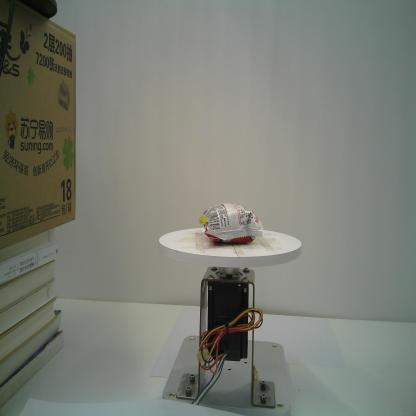Dessert: (199, 202, 263, 244)
